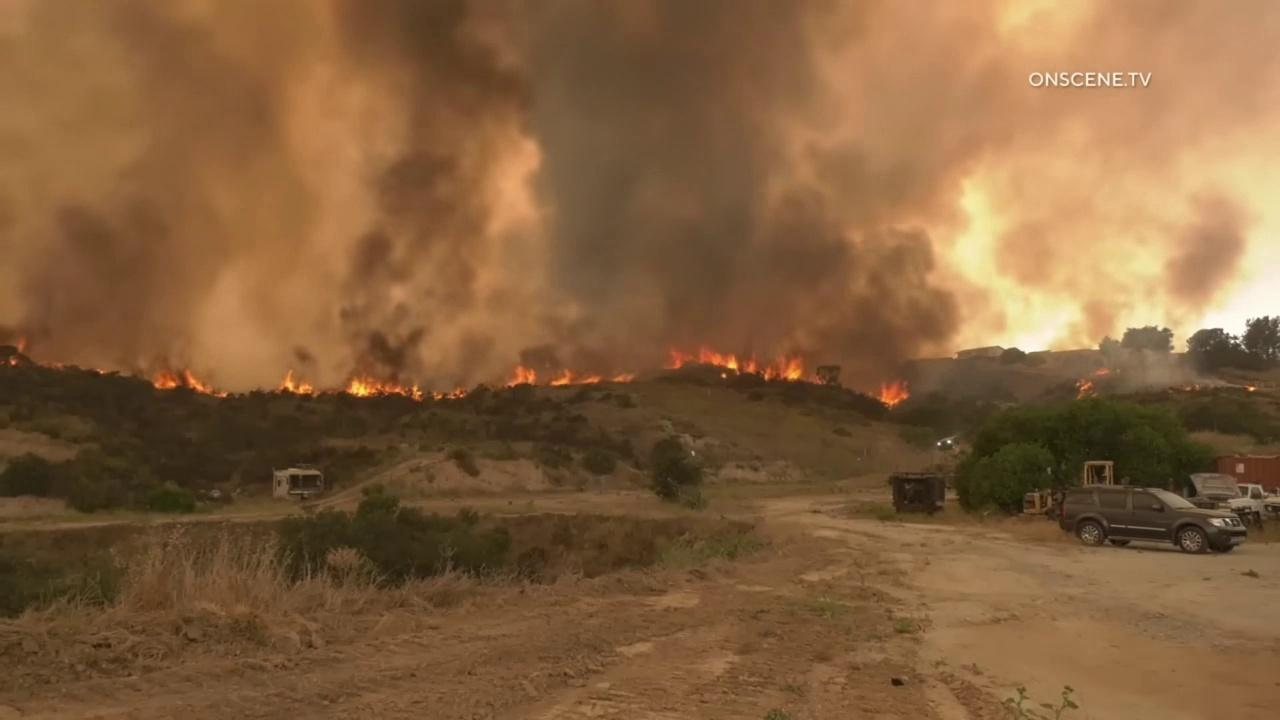fire: (670, 344, 804, 383), (328, 374, 422, 401), (154, 368, 228, 398), (273, 370, 313, 396), (879, 380, 911, 411), (549, 368, 601, 387), (505, 366, 536, 389), (9, 336, 26, 366), (432, 386, 465, 401), (1072, 378, 1092, 400), (612, 373, 634, 383), (1094, 368, 1109, 376), (312, 388, 322, 399), (1244, 385, 1256, 392), (813, 376, 822, 385), (720, 372, 727, 379), (95, 369, 104, 374)
smoke: (0, 0, 1280, 413)
